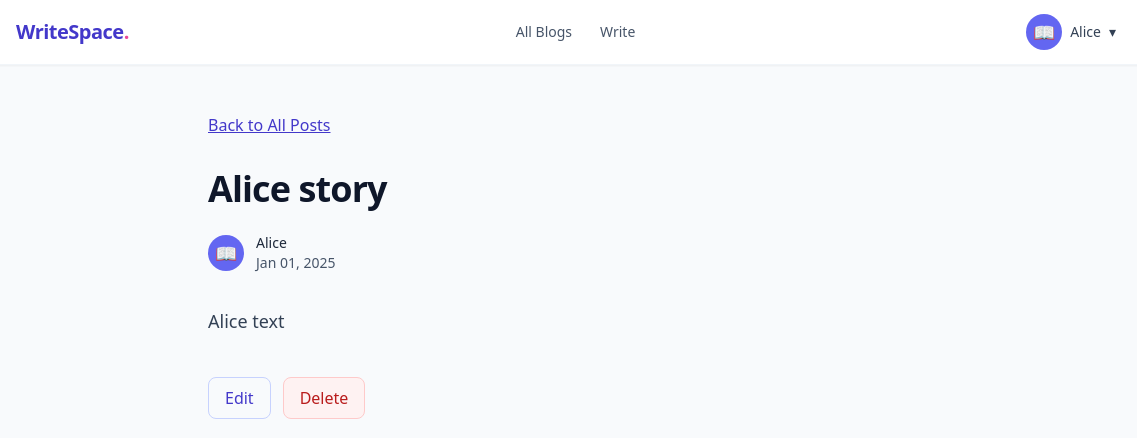
Test: blog routes › requires confirmation before deleting and returns to the list
The width and height of the screenshot is (1137, 438).
Step 1. Click the button "Delete" → (324, 398), box [283,377,365,419]
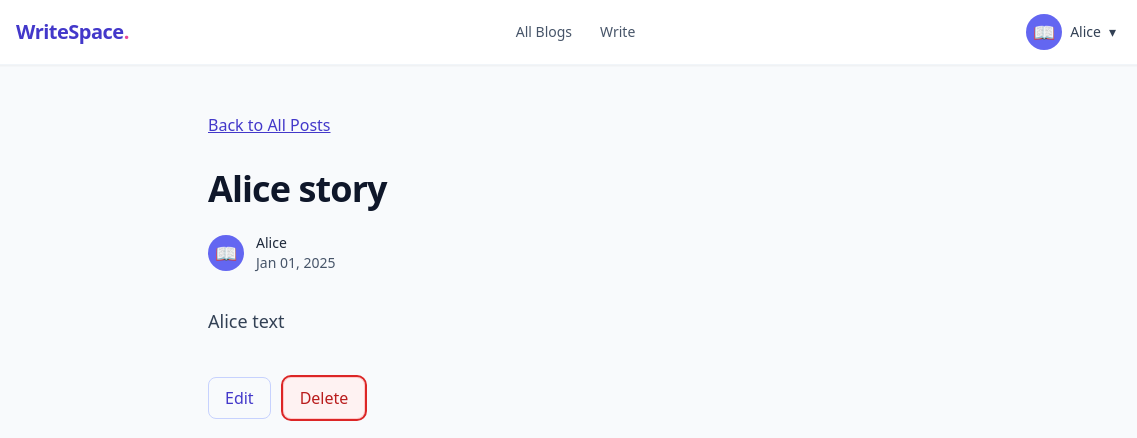
Step 2. Click the button "Delete" → (324, 398), box [283,377,365,419]
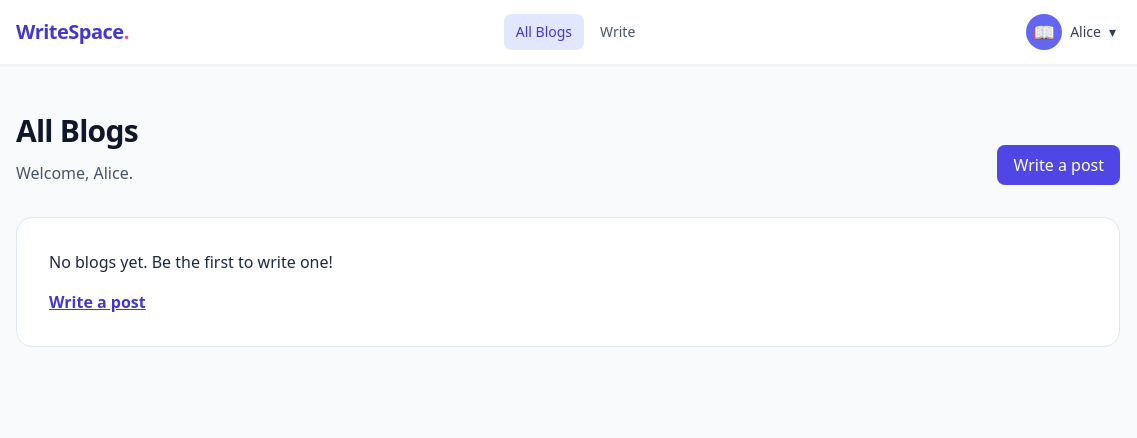
Now the text "No blogs yet. Be the first to write one!" is shown, box [49,251,333,273]
